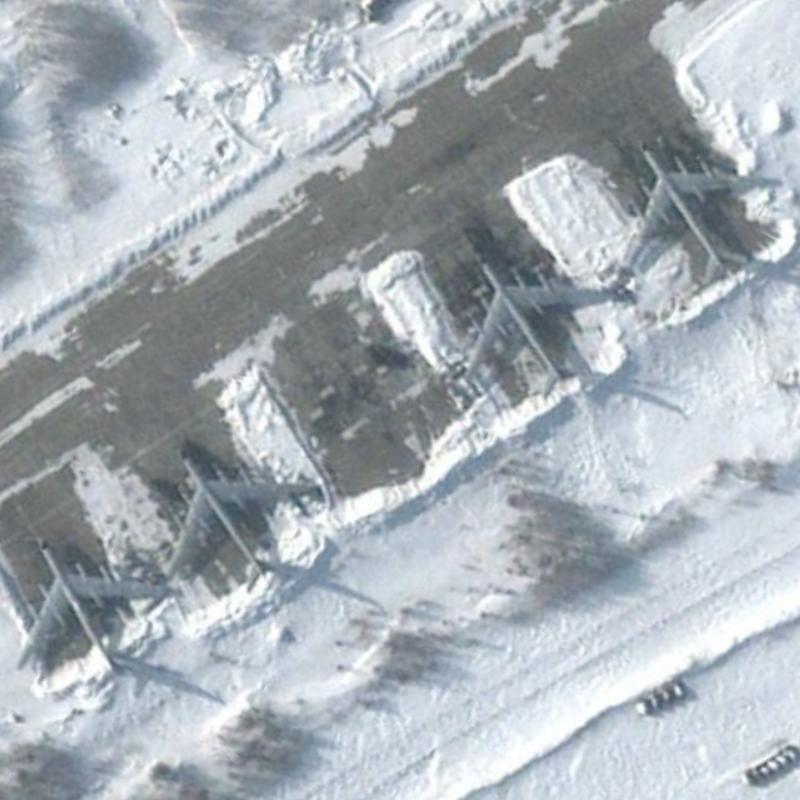A17: (448, 248, 631, 407), (612, 135, 778, 286), (158, 443, 319, 596), (9, 533, 167, 681)
